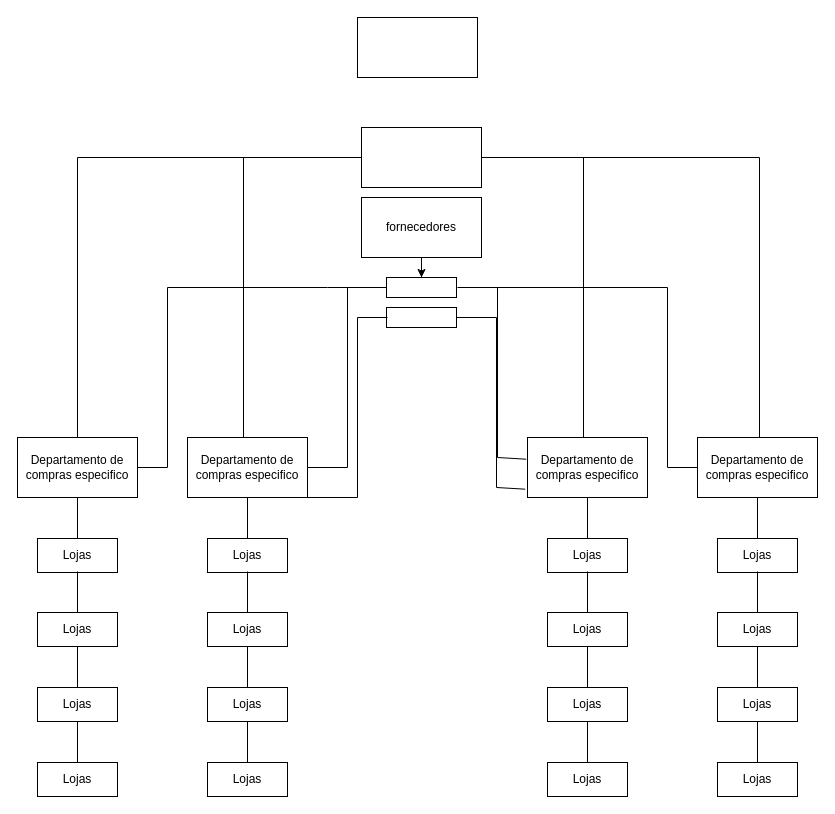
Image size: 835x814. Some labels were removed from this diagram. Each missing label, with the centre of its shape:
Departamento de compras central: the point at 421,157
fornecedor1: the point at 421,287
fornecedor2: the point at 421,317
sede: the point at 417,47
